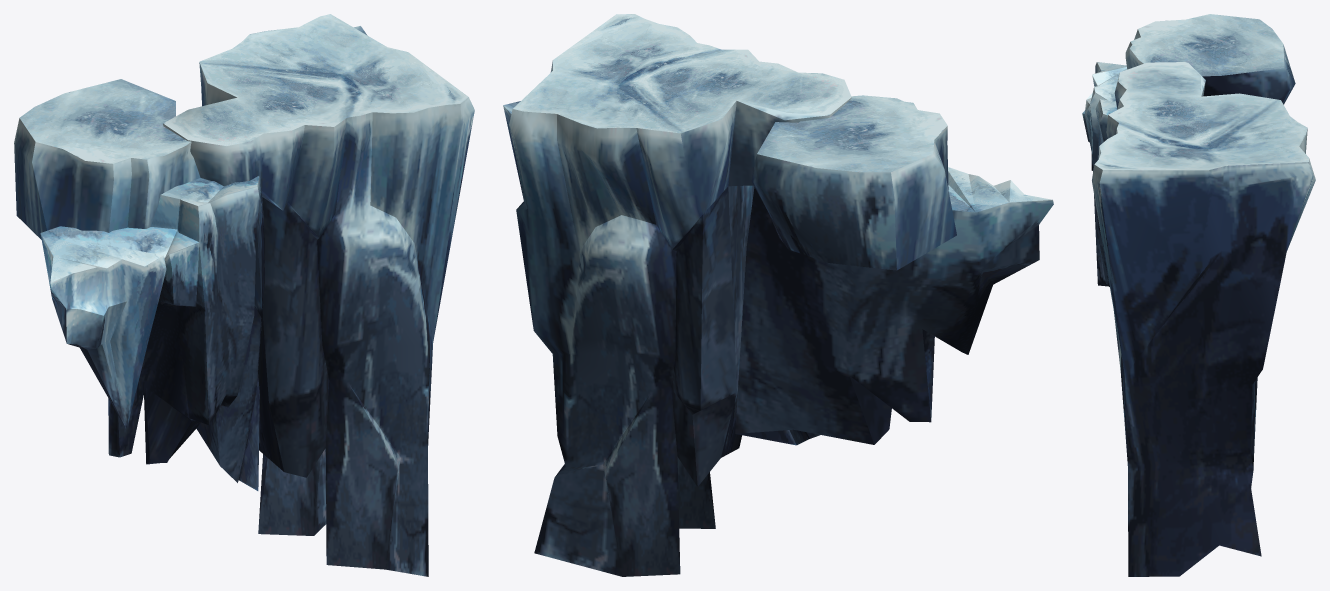
The model's file is bs_binshan_12.FBX.
3 views of the same model, side by side, from view 1: azimuth 30°, elevation 25°; view 2: azimuth 150°, elevation 25°; view 3: azimuth 270°, elevation 25° (orthographic). The views are drawn at different scales.
Visible parts, largest first — view 1: bs_binshan_12; view 2: bs_binshan_12; view 3: bs_binshan_12.
Boxes of the visible parts, x1,y1,x2,y2 form: bs_binshan_12: (14,14,474,576); bs_binshan_12: (503,14,1053,576); bs_binshan_12: (1082,14,1315,576).
Size of the model in its own units: 7113 by 7721 by 3913.
